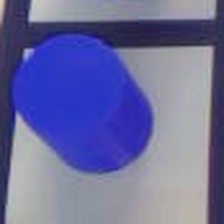cylinder: (6, 25, 165, 180)
